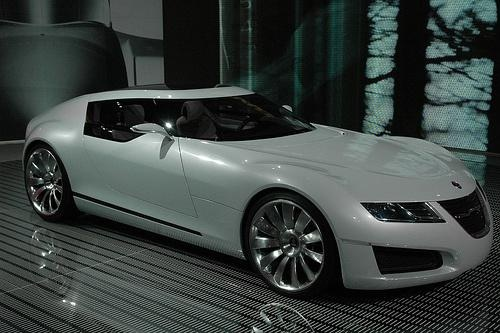car: (18, 80, 497, 305)
